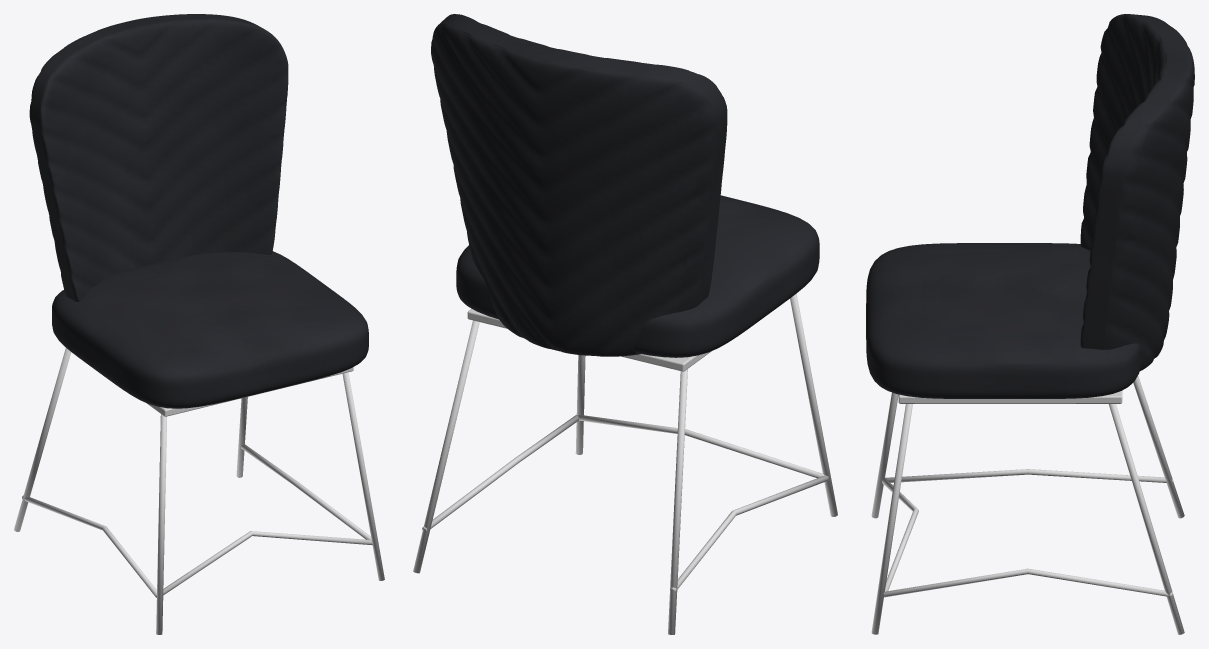
The model's file is venus-dining-set--dchair.glb.
The picture shows the model from 3 angles, left to right: view 1: azimuth 30°, elevation 25°; view 2: azimuth 150°, elevation 25°; view 3: azimuth 270°, elevation 25°; orthographic projection. The views are drawn at different scales.
Parts seen in each view (by area): view 1: back, seat, lf-1, lf1, lb-1, front, side-1, side1, lb1; view 2: back, seat, lb-1, lb1, lf-1, front, side-1, side1, seatframe, lf1; view 3: seat, back, lb1, lf1, side1, side-1, seatframe, lb-1, lf-1, front.
Part boxes in pixels (x1,y1,x2,y2): back: (29, 14, 288, 301); seat: (52, 251, 368, 408); lf-1: (156, 414, 167, 634); lf1: (342, 372, 384, 580); lb-1: (14, 348, 71, 531); front: (163, 531, 372, 595); side-1: (22, 495, 156, 597); side1: (241, 444, 371, 539); lb1: (236, 397, 247, 477); back: (431, 14, 727, 356); seat: (456, 195, 819, 357); lb-1: (668, 369, 687, 634); lb1: (413, 320, 479, 573); lf-1: (790, 293, 837, 516); front: (578, 415, 825, 478); side-1: (670, 475, 828, 592); side1: (422, 415, 578, 530); seatframe: (467, 308, 711, 371); lf1: (575, 355, 585, 454); seat: (866, 243, 1141, 398); back: (1080, 14, 1194, 370); lb1: (1109, 404, 1184, 634); lf1: (871, 404, 912, 634); side1: (883, 568, 1172, 597); side-1: (885, 469, 1172, 482); seatframe: (898, 391, 1122, 403); lb-1: (1133, 375, 1184, 518); lf-1: (871, 392, 898, 518); front: (882, 478, 918, 591).
Size of the model in its own units: 0.5232 by 0.9704 by 0.5579.
Materials: 2 (1 with a texture image).
